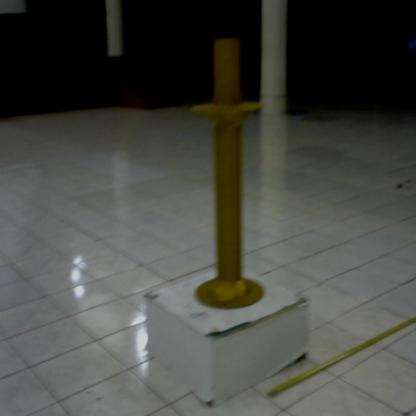pole: (187, 34, 271, 317)
